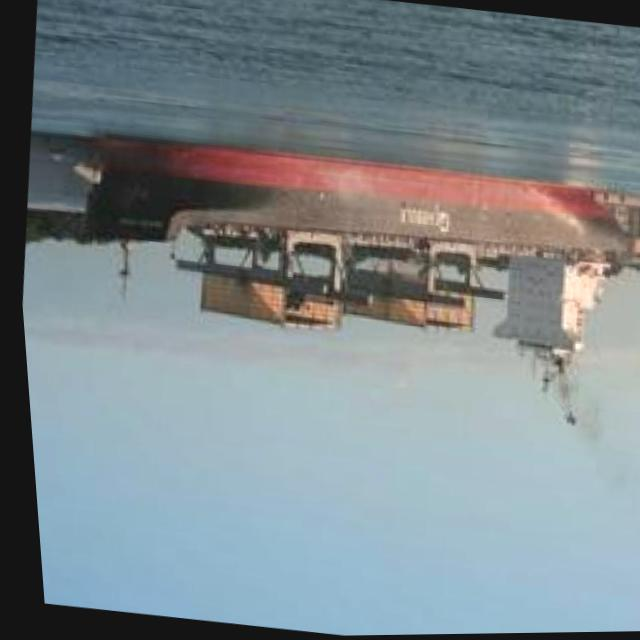ship2: (70, 132, 626, 425)
